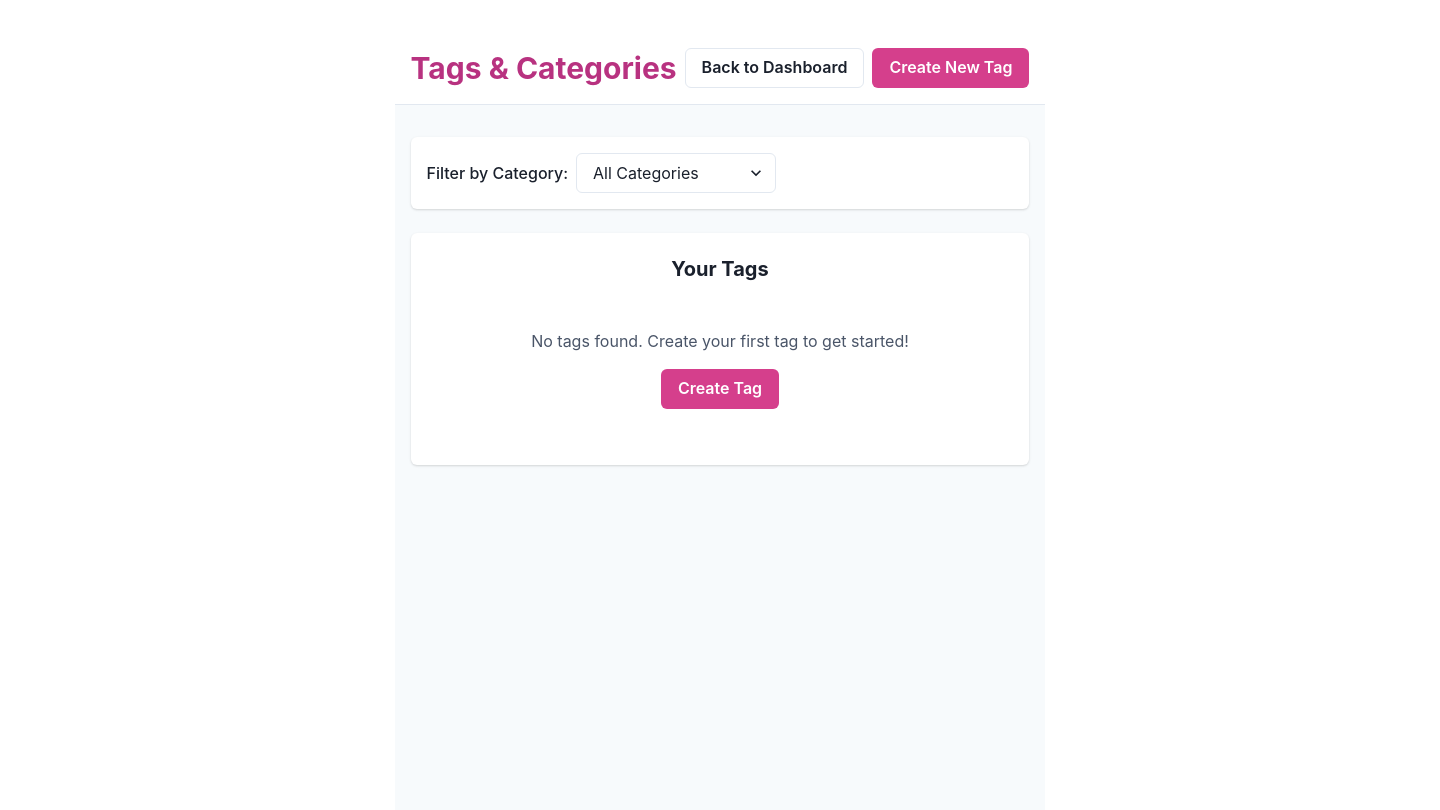
Test: Tags page › shows an error toast when tag creation fails
Check: the text "No tags found. Create your first tag to get started!" is shown, box [531,331,909,351]
Click the button "Create New Tag" at (951, 68), box [872,48,1029,88]
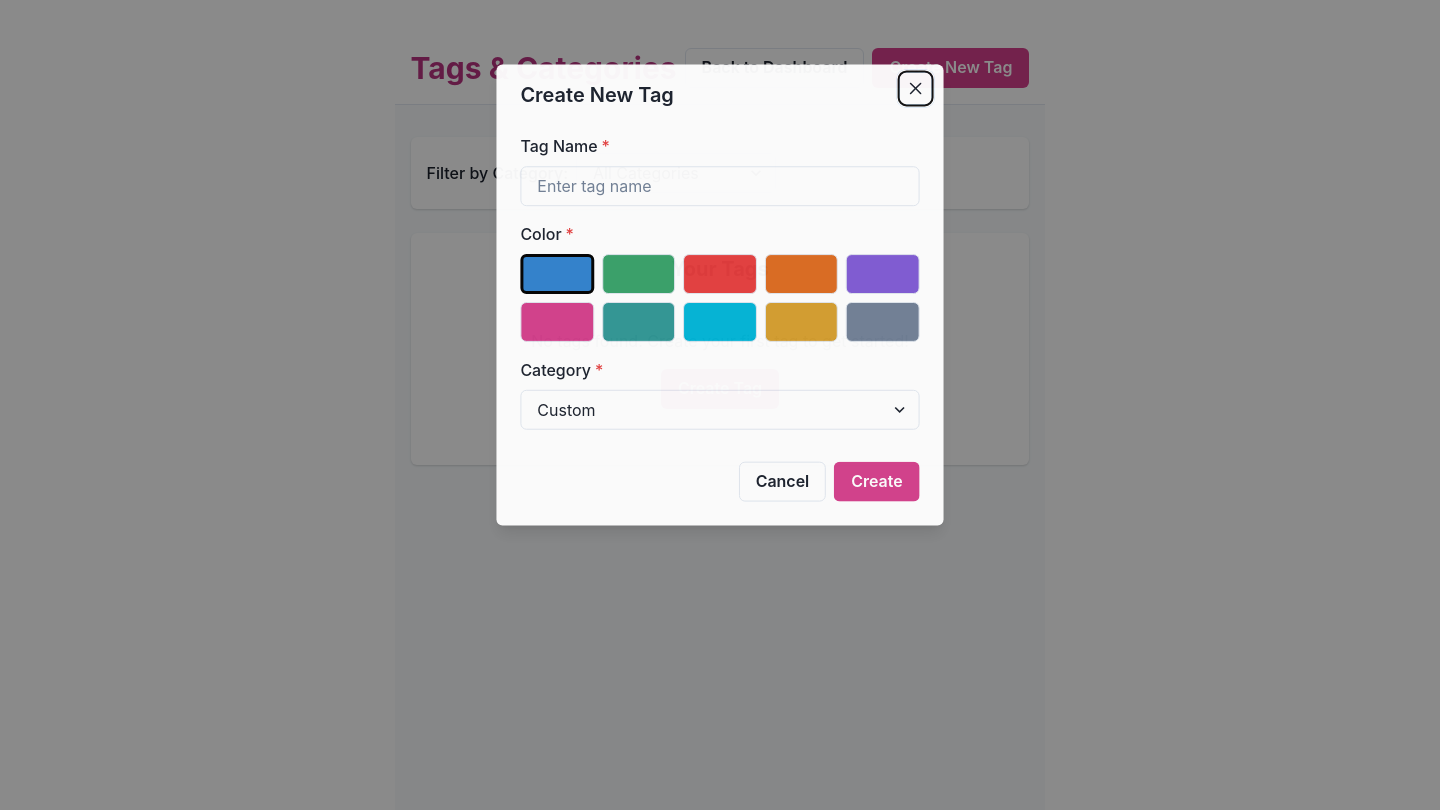
Type "Broken" into the field with placeholder "Enter tag name" at (720, 186), box [520,166,920,206]
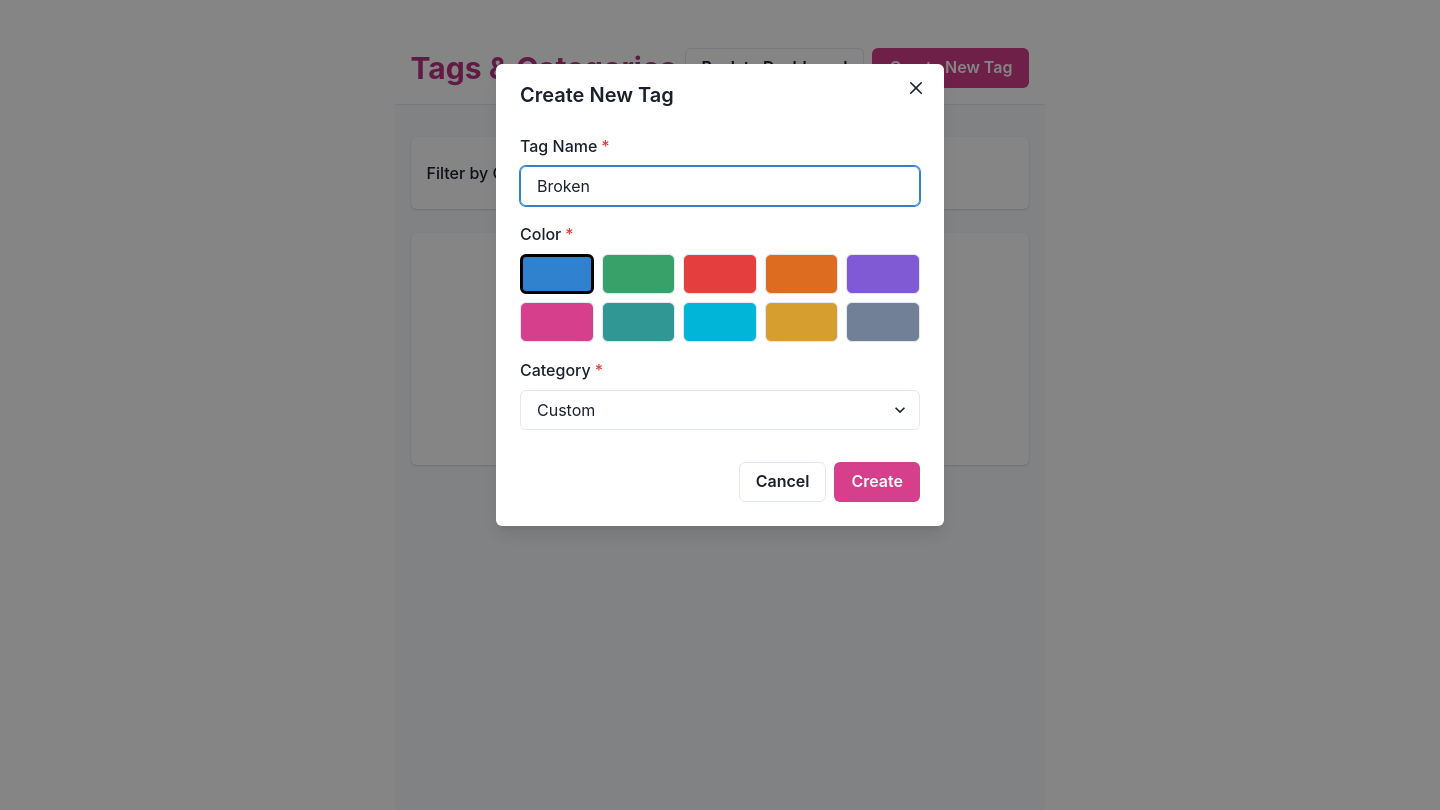
Click the button "Create" at (877, 482), box [834,462,920,502]
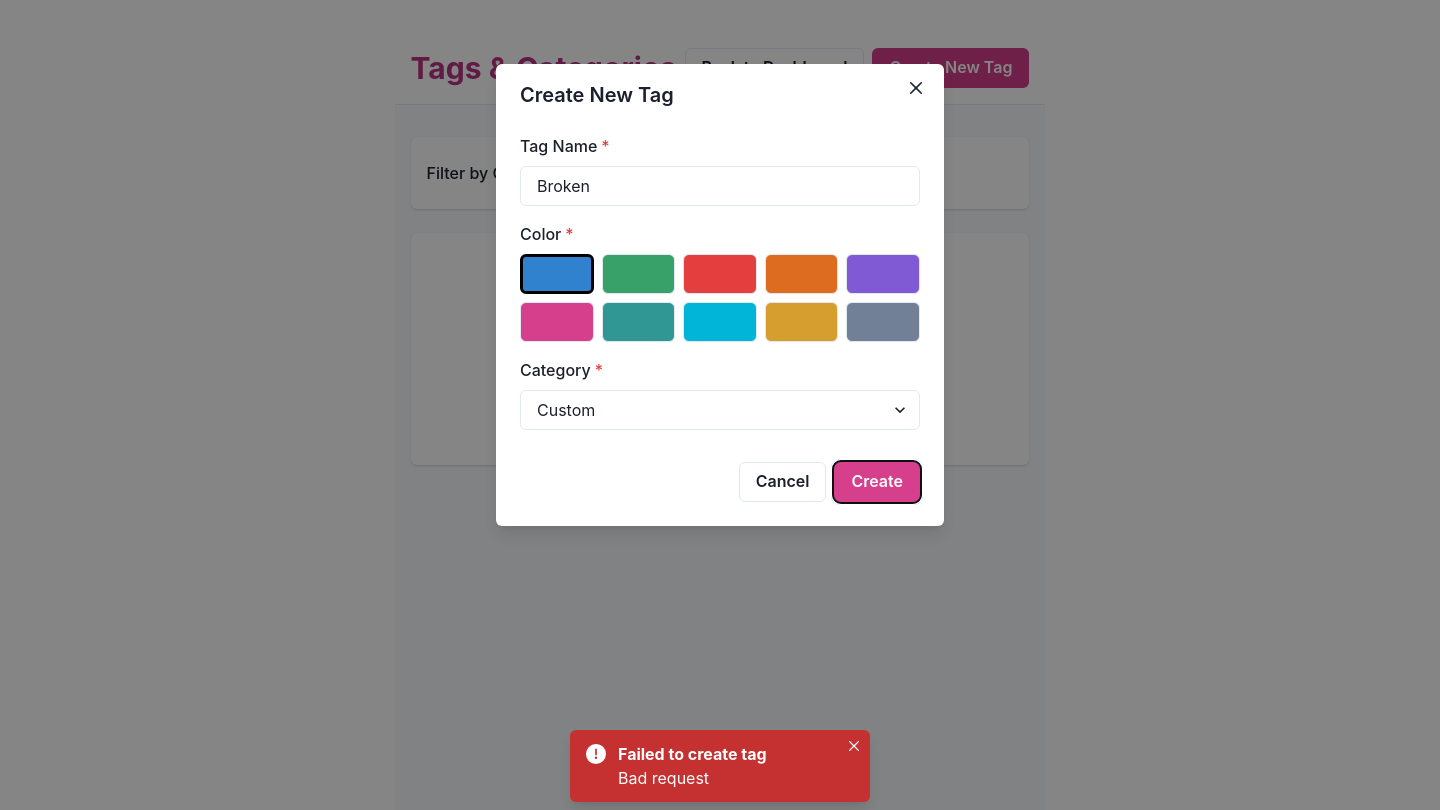
Check: the text "Failed to create tag" is shown, box [618,744,767,764]
